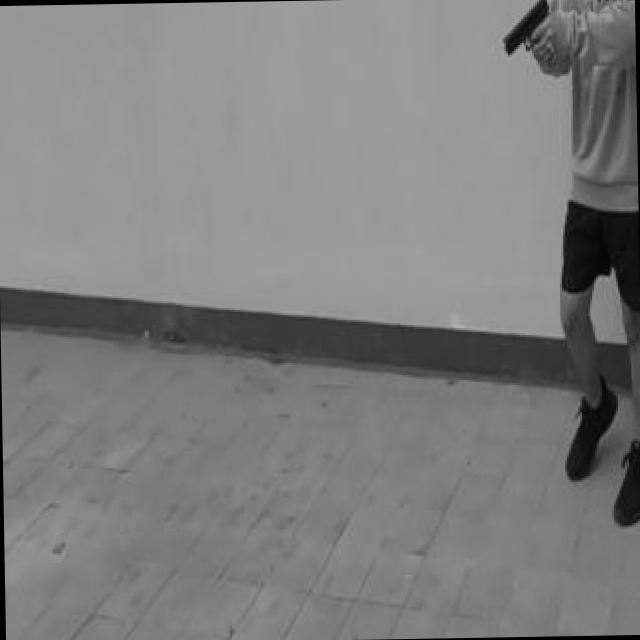Guns: (484, 0, 565, 77)
